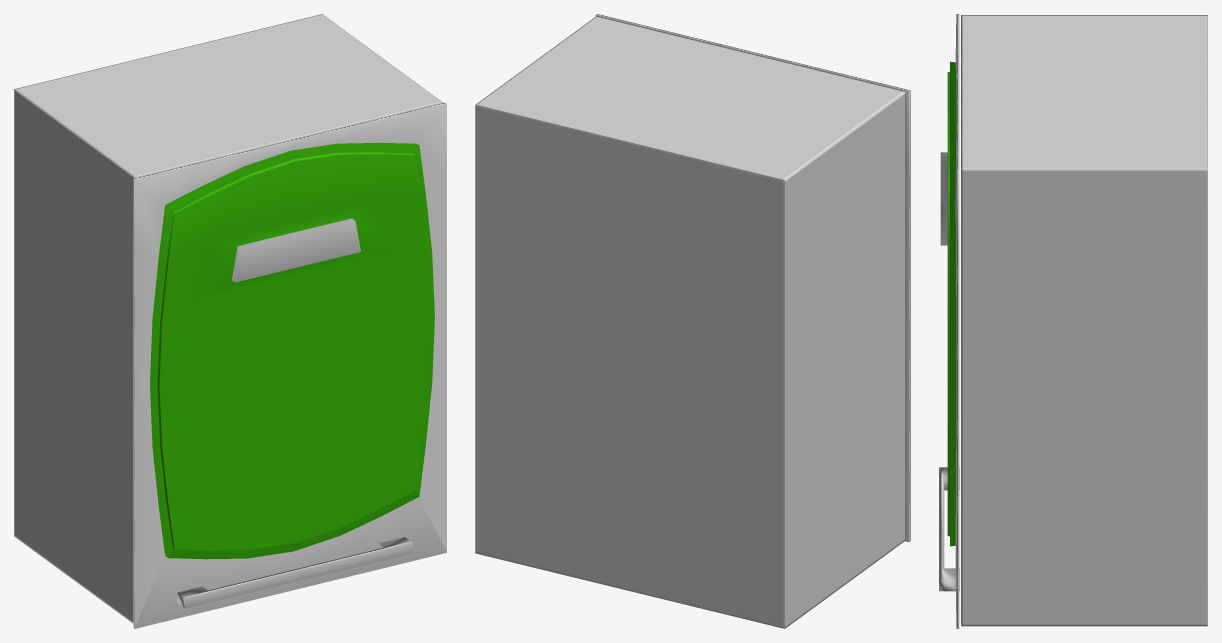
The model's file is I _armario_simples_m.fbx.
3 renders of one model, left to right at view 1: azimuth 30°, elevation 25°; view 2: azimuth 150°, elevation 25°; view 3: azimuth 270°, elevation 25°, orthographic. The views are drawn at different scales.
Visible parts, largest first — view 1: P_amerixa, P_amerixa_001; view 2: P_amerixa_001, P_amerixa; view 3: P_amerixa_001, P_amerixa.
Part boxes in pixels (left/top/right/bottom): P_amerixa: left=133, top=102, right=446, bottom=628; P_amerixa_001: left=14, top=14, right=443, bottom=623; P_amerixa_001: left=475, top=16, right=905, bottom=628; P_amerixa: left=595, top=14, right=910, bottom=541; P_amerixa_001: left=961, top=15, right=1207, bottom=626; P_amerixa: left=939, top=14, right=959, bottom=628.
Size of the model in its own units: 0.4 by 0.55 by 0.2918.
